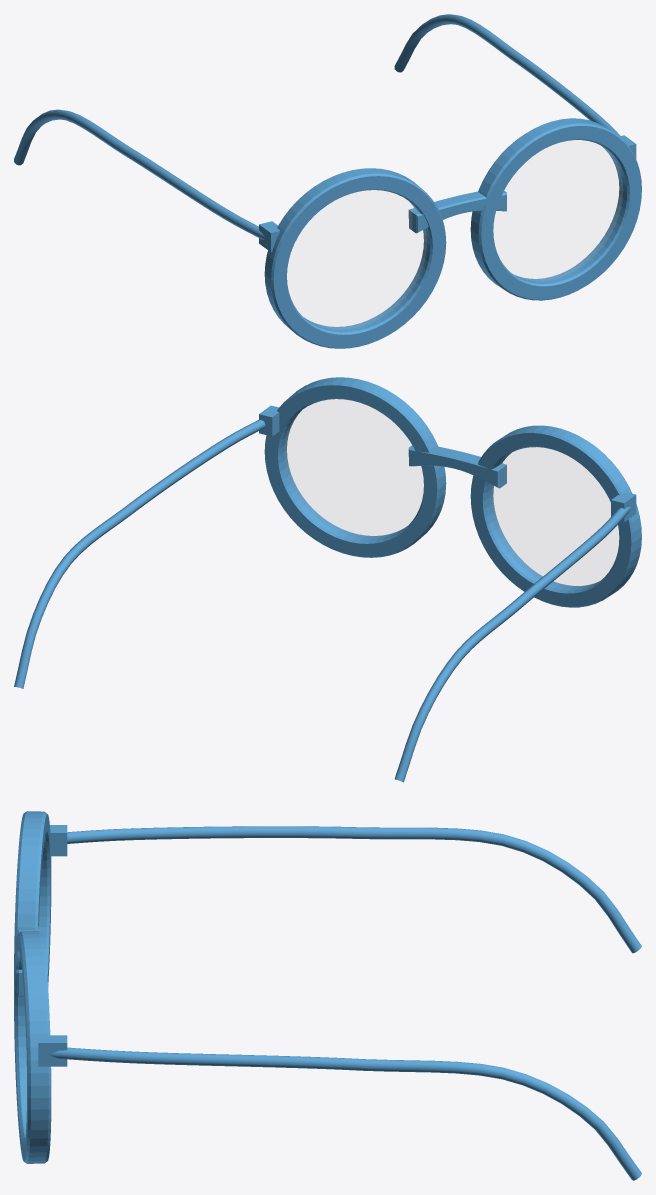
The model's file is BM-K01_Pip_Sky_blue.glb.
The picture shows the model from 3 angles, top to bottom: view 1: azimuth 30°, elevation 25°; view 2: azimuth 150°, elevation 25°; view 3: azimuth 270°, elevation 25°; orthographic projection. The views are drawn at different scales.
Visible parts, largest first — view 1: Pip_Sky_blue_Acetate, Pip_Sky_blue_Lenses; view 2: Pip_Sky_blue_Acetate, Pip_Sky_blue_Lenses; view 3: Pip_Sky_blue_Acetate.
Boxes of the visible parts, <box> form: Pip_Sky_blue_Acetate: <box>14,14,641,348</box>; Pip_Sky_blue_Lenses: <box>287,140,622,328</box>; Pip_Sky_blue_Acetate: <box>14,377,641,782</box>; Pip_Sky_blue_Lenses: <box>284,399,618,587</box>; Pip_Sky_blue_Acetate: <box>14,811,641,1180</box>.
Bounding box in the file's own units: 0.1241 × 0.0508 × 0.138.
